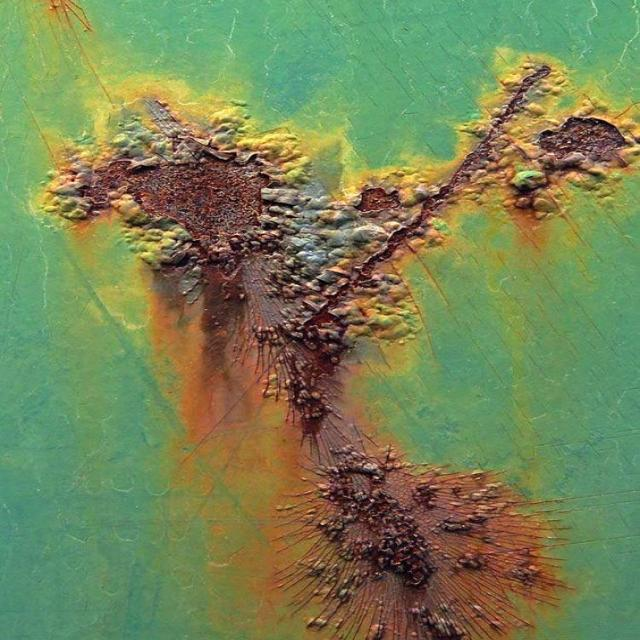Uniform Corrosion: (0, 0, 329, 639), (345, 166, 639, 639), (75, 0, 639, 189)
